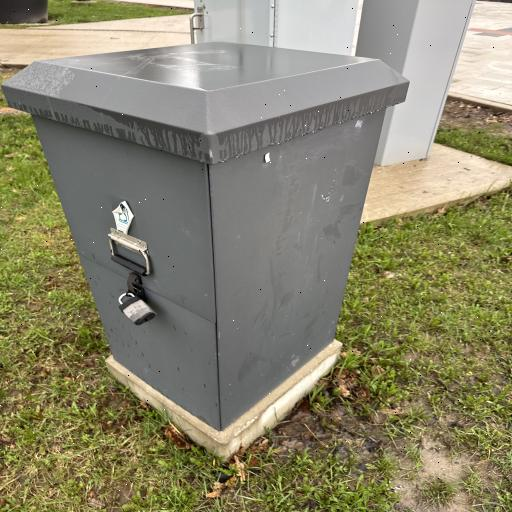Electrical Box: (0, 42, 411, 434)
